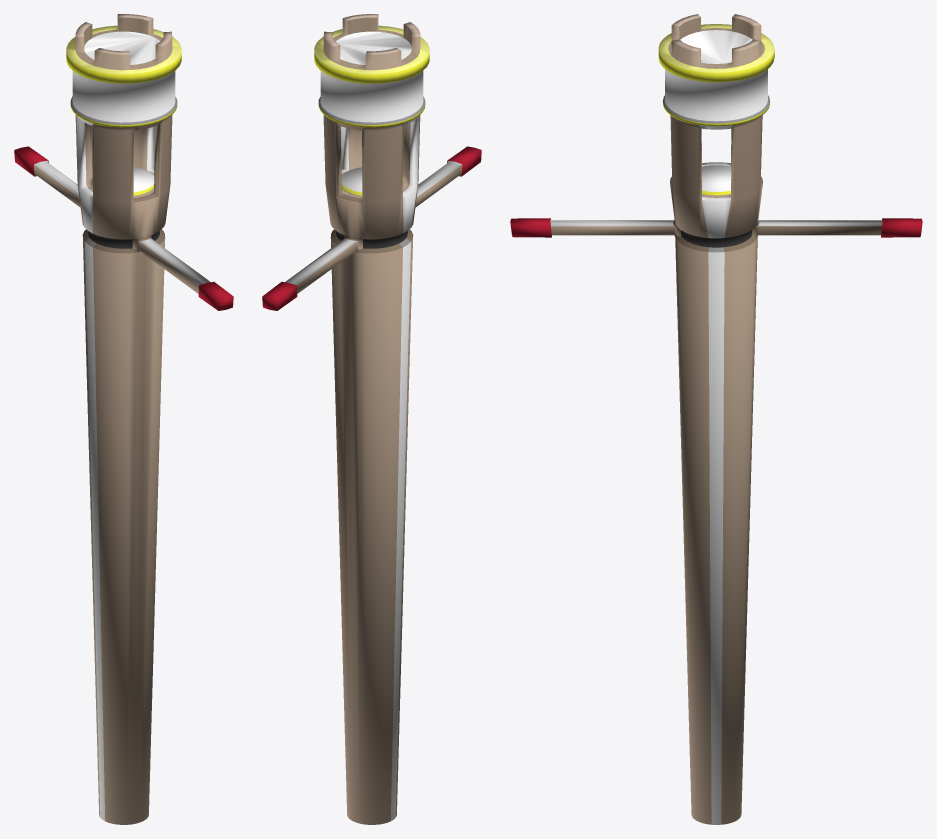
File: TurningKickPole.fbx
3 renders of one model, left to right at view 1: azimuth 30°, elevation 25°; view 2: azimuth 150°, elevation 25°; view 3: azimuth 270°, elevation 25°, orthographic.
Visible parts, largest first — view 1: pitTurningTrap; view 2: pitTurningTrap; view 3: pitTurningTrap.
Part boxes in pixels (left/top/right/bottom): pitTurningTrap: left=14, top=14, right=233, bottom=824; pitTurningTrap: left=262, top=14, right=481, bottom=824; pitTurningTrap: left=510, top=14, right=922, bottom=824.
Bounding box in the file's own units: 23.64 × 176 × 84.04.
